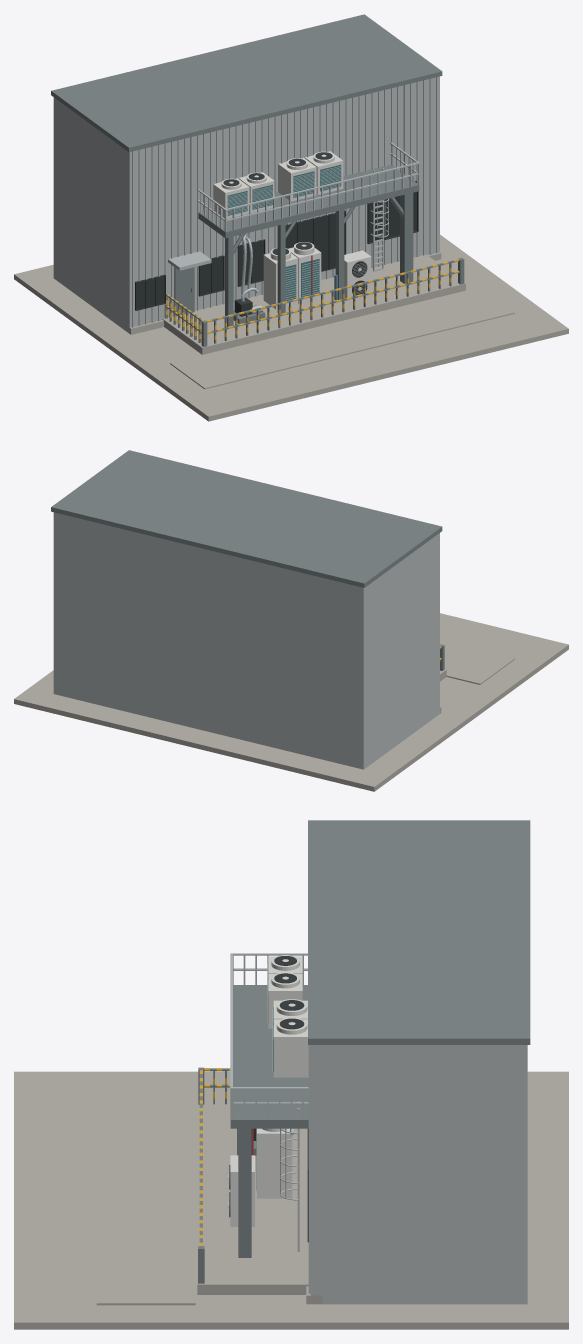
The picture shows the model from 3 angles, top to bottom: view 1: azimuth 30°, elevation 25°; view 2: azimuth 150°, elevation 25°; view 3: azimuth 270°, elevation 25°; orthographic projection. The views are drawn at different scales.
Parts seen in each view (by area): view 1: 连续银灰色波纹金属厂房主立面, 示意屋面, 连续地坪和通道, 示意侧墙 left, 基座前方连续硬化地坪通道, 长条抬高混凝土设备基座, 悬挑钢平台底板及底部梁格, 设备区前沿连续黄黑防护栏, 平台下两台高柜式空调室外机, 上层右侧两台较高室外机, 平台前缘连续安全护栏, 上层左侧两台顶风机室外机 (+14 smaller); view 2: 示意背墙, 示意屋面, 连续地坪和通道, 示意侧墙 left, 基座前方连续硬化地坪通道, 示意侧墙 right, 连续银灰色波纹金属厂房主立面; view 3: 示意侧墙 right, 示意屋面, 连续地坪和通道, 基座前方连续硬化地坪通道, 长条抬高混凝土设备基座, 悬挑钢平台底板及底部梁格, 连续银灰色波纹金属厂房主立面, 上层右侧两台较高室外机, 平台下两台高柜式空调室外机, 平台右侧粗承重钢柱, 上层左侧两台顶风机室外机, 右前方上下双风扇白色室外机 (+3 smaller).
Part boxes in pixels (left/top/right/bottom): 连续银灰色波纹金属厂房主立面: left=125, top=76, right=439, bottom=333; 示意屋面: left=51, top=14, right=442, bottom=152; 连续地坪和通道: left=14, top=234, right=568, bottom=421; 示意侧墙 left: left=53, top=97, right=125, bottom=330; 基座前方连续硬化地坪通道: left=170, top=287, right=514, bottom=389; 长条抬高混凝土设备基座: left=162, top=254, right=465, bottom=354; 悬挑钢平台底板及底部梁格: left=198, top=164, right=419, bottom=238; 设备区前沿连续黄黑防护栏: left=204, top=259, right=459, bottom=343; 平台下两台高柜式空调室外机: left=263, top=242, right=321, bottom=309; 上层右侧两台较高室外机: left=278, top=151, right=343, bottom=201; 平台前缘连续安全护栏: left=225, top=162, right=419, bottom=232; 上层左侧两台顶风机室外机: left=213, top=172, right=274, bottom=218; 示意背墙: left=61, top=514, right=355, bottom=767; 示意屋面: left=51, top=450, right=442, bottom=587; 连续地坪和通道: left=14, top=613, right=568, bottom=791; 示意侧墙 left: left=356, top=536, right=435, bottom=769; 基座前方连续硬化地坪通道: left=440, top=640, right=514, bottom=684; 示意侧墙 right: left=53, top=512, right=61, bottom=695; 连续银灰色波纹金属厂房主立面: left=435, top=533, right=439, bottom=716; 示意侧墙 right: left=323, top=1045, right=527, bottom=1304; 示意屋面: left=308, top=820, right=530, bottom=1044; 连续地坪和通道: left=14, top=1071, right=568, bottom=1329; 基座前方连续硬化地坪通道: left=96, top=1087, right=195, bottom=1305; 长条抬高混凝土设备基座: left=197, top=1101, right=308, bottom=1294; 悬挑钢平台底板及底部梁格: left=230, top=985, right=308, bottom=1128; 连续银灰色波纹金属厂房主立面: left=308, top=1045, right=323, bottom=1304; 上层右侧两台较高室外机: left=272, top=999, right=308, bottom=1077; 平台下两台高柜式空调室外机: left=256, top=1128, right=292, bottom=1198; 平台右侧粗承重钢柱: left=238, top=1128, right=251, bottom=1257; 上层左侧两台顶风机室外机: left=267, top=955, right=302, bottom=1028; 右前方上下双风扇白色室外机: left=228, top=1155, right=254, bottom=1226.
Bounding box in the file's own units: 18.58 × 9.49 × 17.38.
